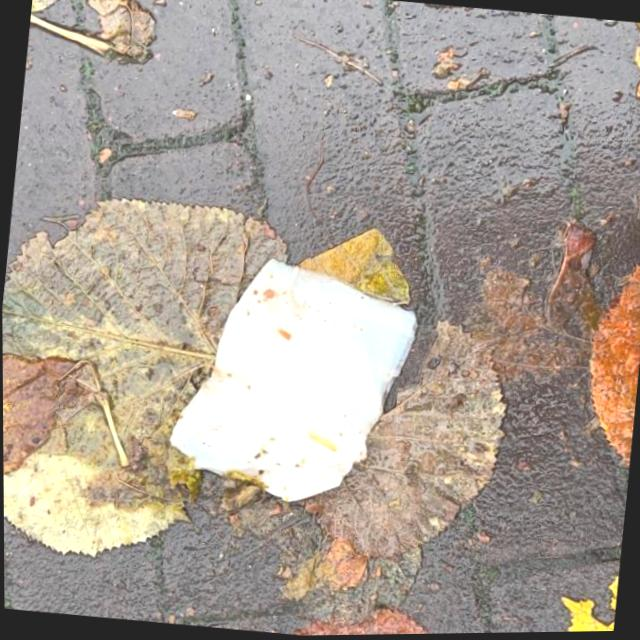Paper: (159, 246, 424, 517)
